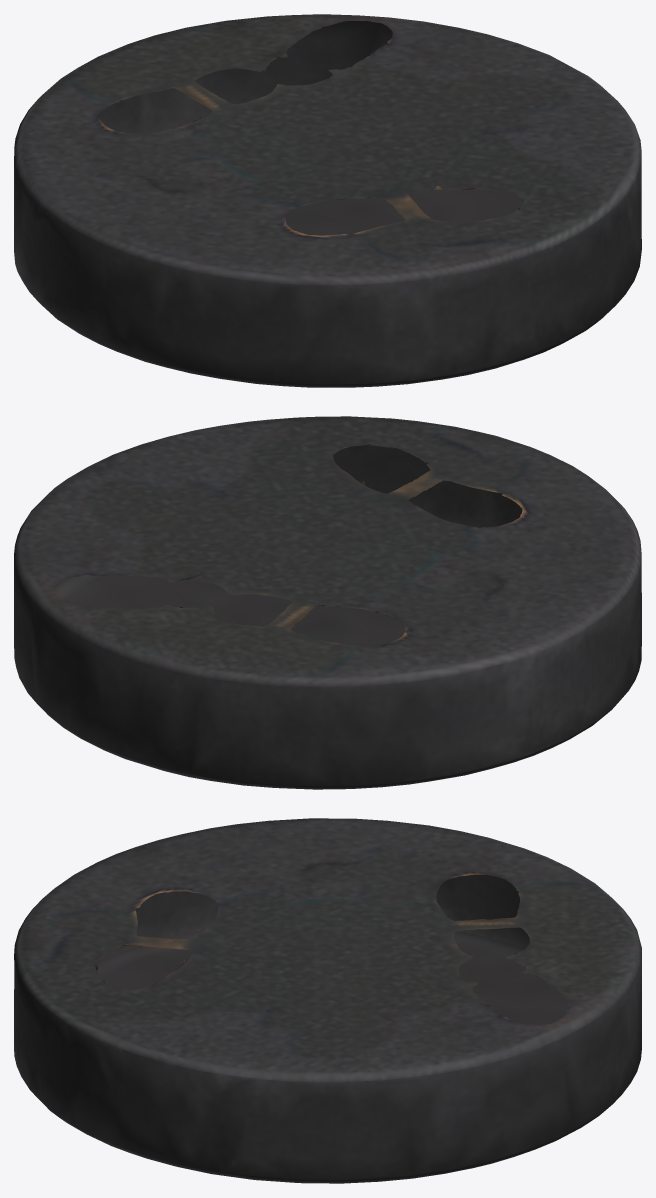
The model's file is SM_KingArthur_H2LD_Base.fbx.
3 views of the same model, one above another, from view 1: azimuth 30°, elevation 25°; view 2: azimuth 150°, elevation 25°; view 3: azimuth 270°, elevation 25° (orthographic).
Parts seen in each view (by area): view 1: SM_KingArthur_H2_Base; view 2: SM_KingArthur_H2_Base; view 3: SM_KingArthur_H2_Base.
Boxes of the visible parts, left/top/right/bottom form: SM_KingArthur_H2_Base: left=14, top=14, right=641, bottom=387; SM_KingArthur_H2_Base: left=14, top=416, right=641, bottom=789; SM_KingArthur_H2_Base: left=14, top=818, right=641, bottom=1183.
Size of the model in its own units: 29.51 by 30.01 by 6.03.
